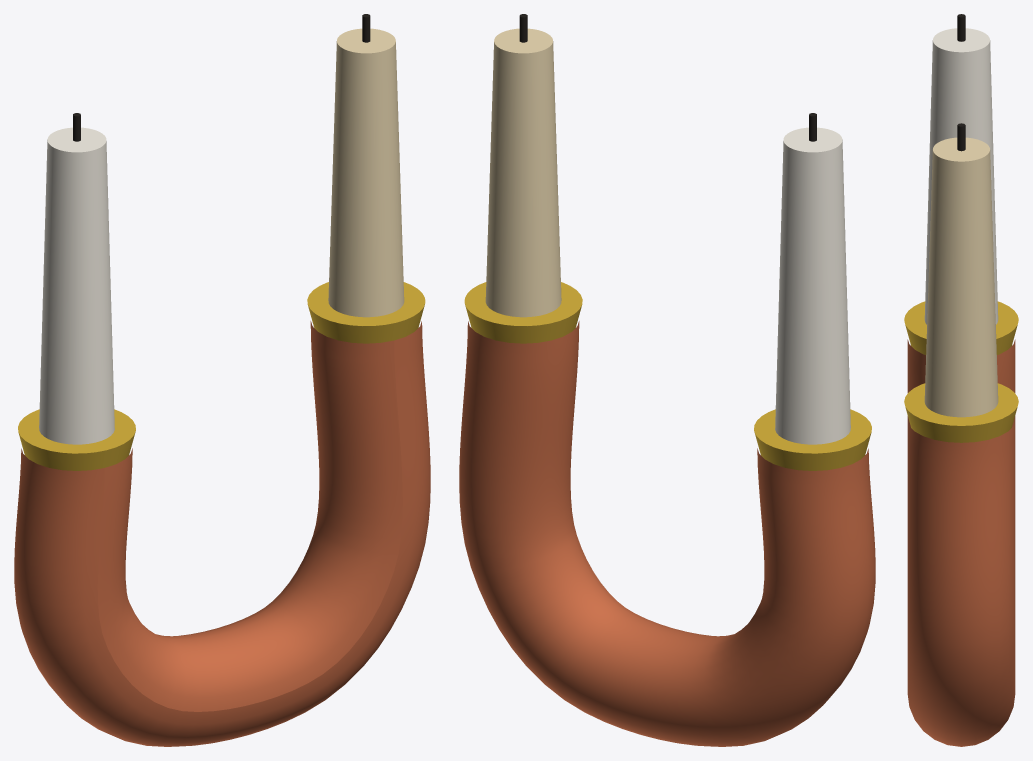
File: candle_holder.glb
3 renders of one model, left to right at view 1: azimuth 30°, elevation 25°; view 2: azimuth 150°, elevation 25°; view 3: azimuth 270°, elevation 25°, orthographic. The views are drawn at different scales.
Bounding box in the file's own units: 1.33 × 2.17 × 0.34.
